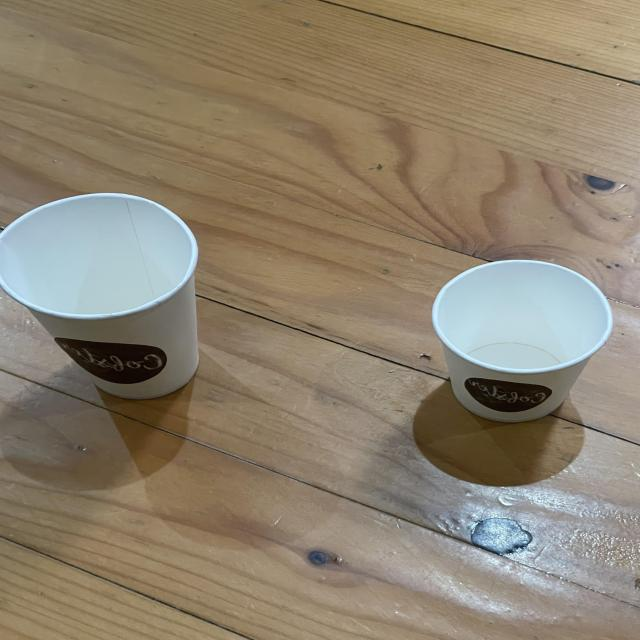big: (0, 188, 208, 402)
small: (426, 257, 614, 424)
